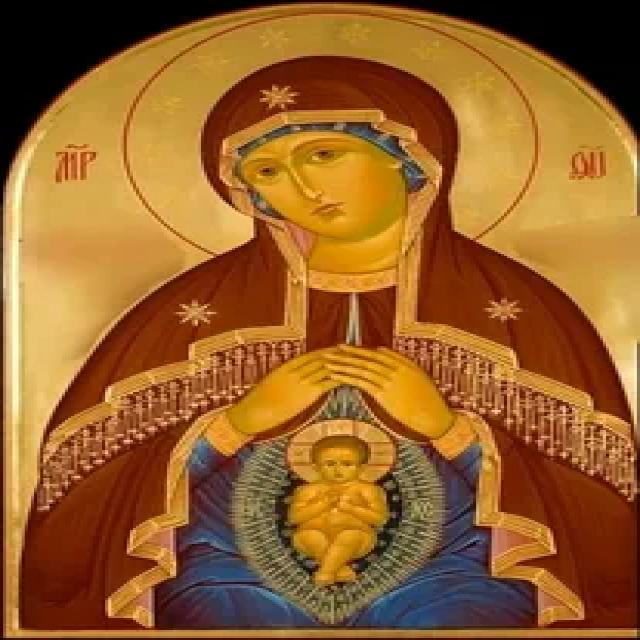mother of god: (46, 48, 640, 638)
